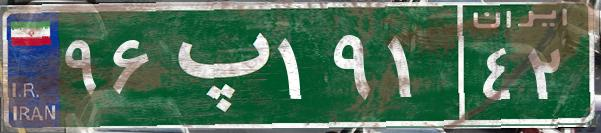1: (385, 28, 445, 110), (273, 28, 330, 110)
2: (525, 38, 570, 115)
4: (475, 38, 525, 113)
6: (110, 28, 158, 105)
9: (330, 28, 385, 110), (57, 26, 110, 107)
پ: (158, 15, 273, 115)
